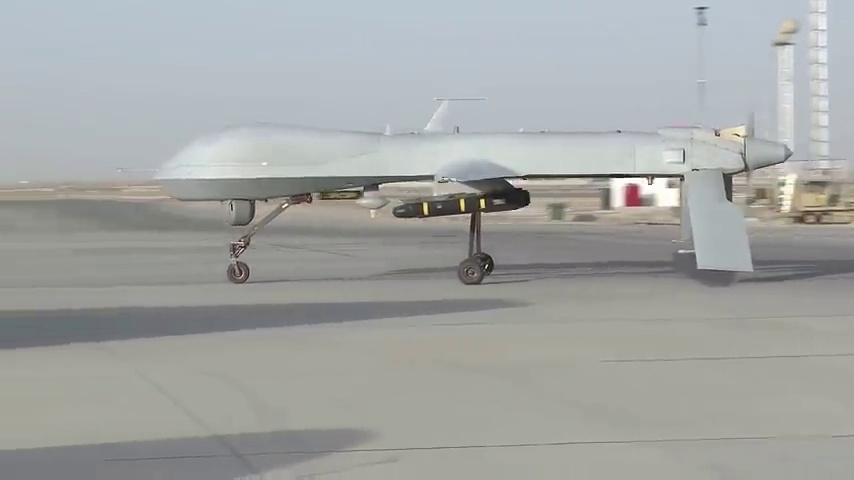military drone: (116, 97, 794, 283)
